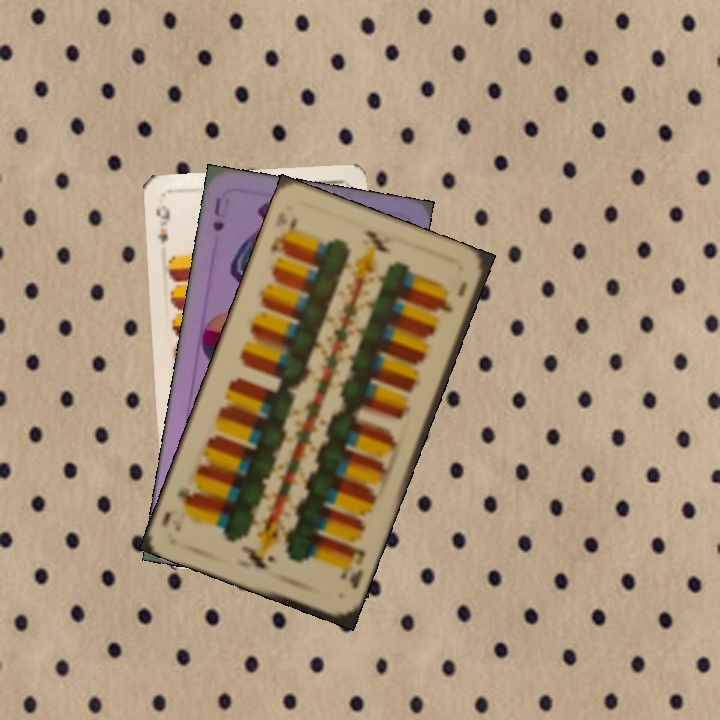E10: (336, 540, 368, 592), (267, 213, 300, 258)
E9: (152, 201, 173, 247)
SU: (209, 193, 229, 234)
